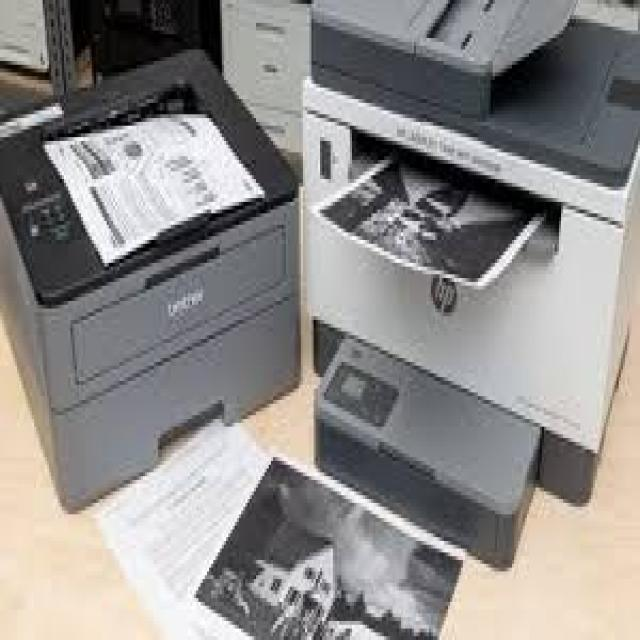printer: (299, 0, 638, 568), (0, 42, 301, 510)
